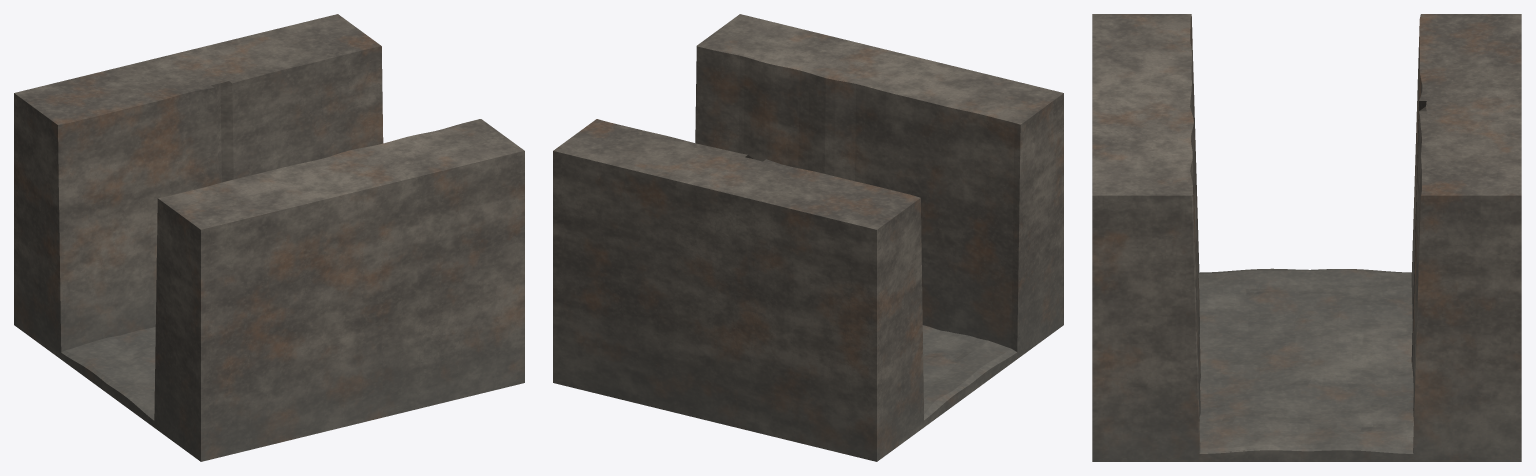
Rendered from dungeon_cave_passage_floor.glb.
3 views of the same model, side by side, from view 1: azimuth 30°, elevation 25°; view 2: azimuth 150°, elevation 25°; view 3: azimuth 270°, elevation 25° (orthographic). The views are drawn at different scales.
Parts seen in each view (by area): view 1: dungeon_cave_passage_floor; view 2: dungeon_cave_passage_floor; view 3: dungeon_cave_passage_floor.
Boxes of the visible parts, x1,y1,x2,y2 form: dungeon_cave_passage_floor: [14, 14, 524, 461]; dungeon_cave_passage_floor: [553, 14, 1063, 461]; dungeon_cave_passage_floor: [1092, 14, 1521, 461].
Bounding box in the file's own units: 5.05 × 3.46 × 5.05.
1 material, 1 textured.
